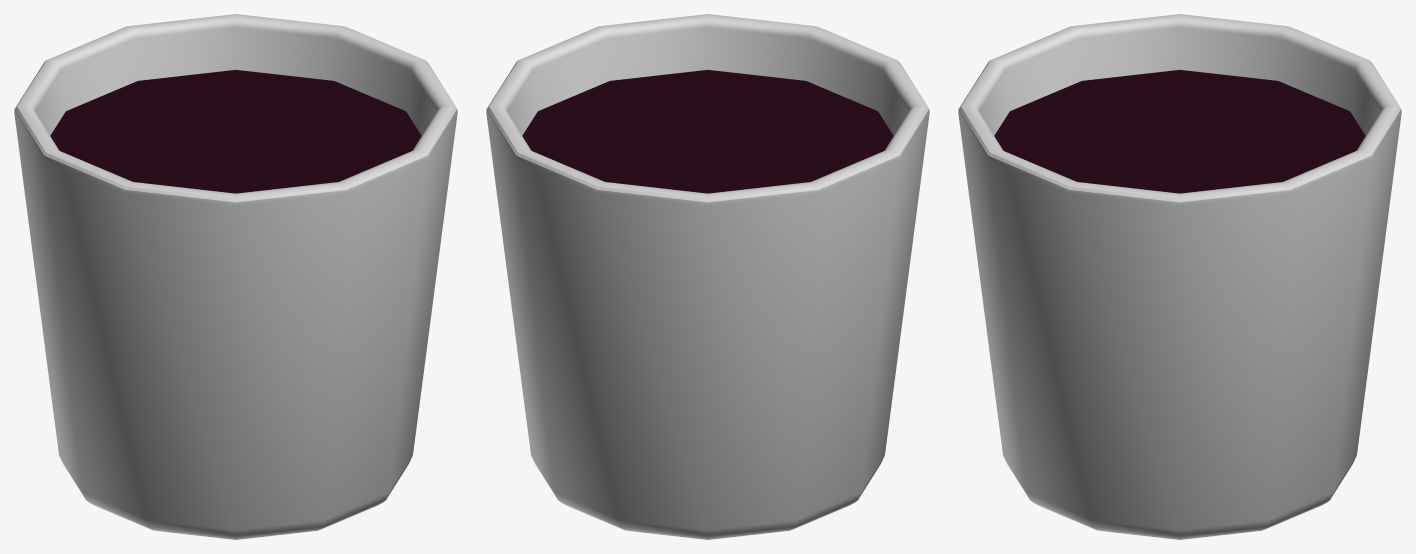
Rendered from Shotglass.fbx.
3 renders of one model, left to right at view 1: azimuth 30°, elevation 25°; view 2: azimuth 150°, elevation 25°; view 3: azimuth 270°, elevation 25°, orthographic.
Visible parts, largest first — view 1: Shot Glass; view 2: Shot Glass; view 3: Shot Glass.
Boxes of the visible parts, x1,y1,x2,y2 form: Shot Glass: (14, 14, 457, 539); Shot Glass: (486, 14, 929, 539); Shot Glass: (958, 14, 1401, 539).
Bounding box in the file's own units: 38.18 × 34.87 × 38.18.
